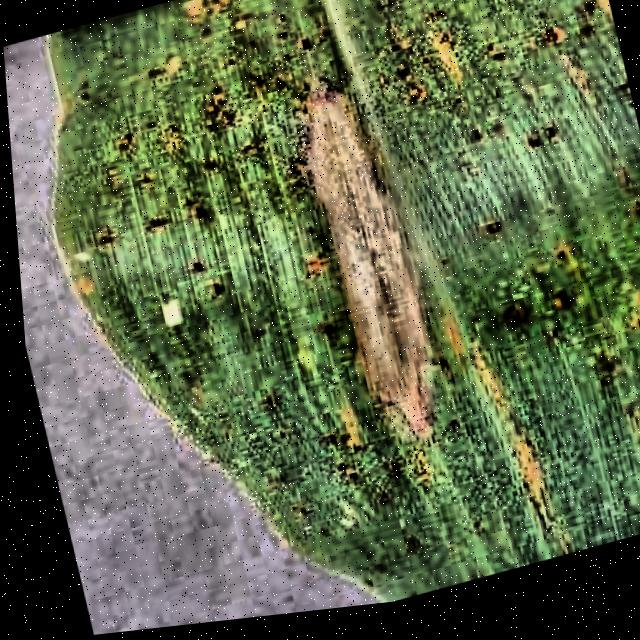blight: (50, 0, 640, 634)
